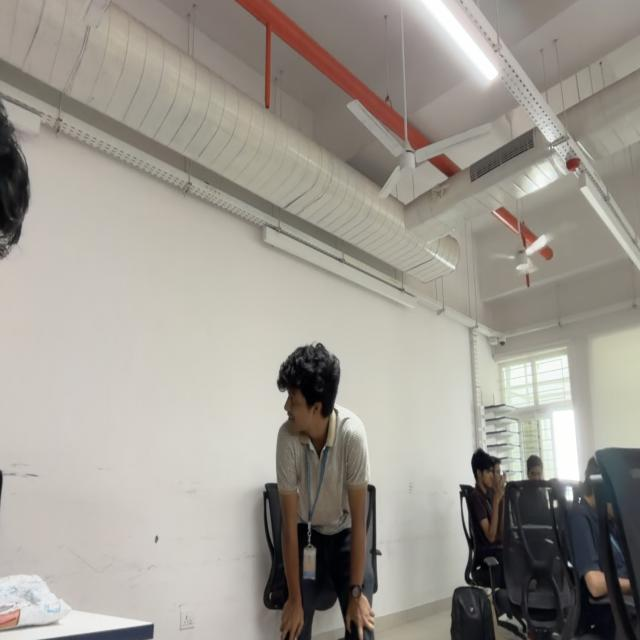kshitij: (279, 344, 342, 440)
